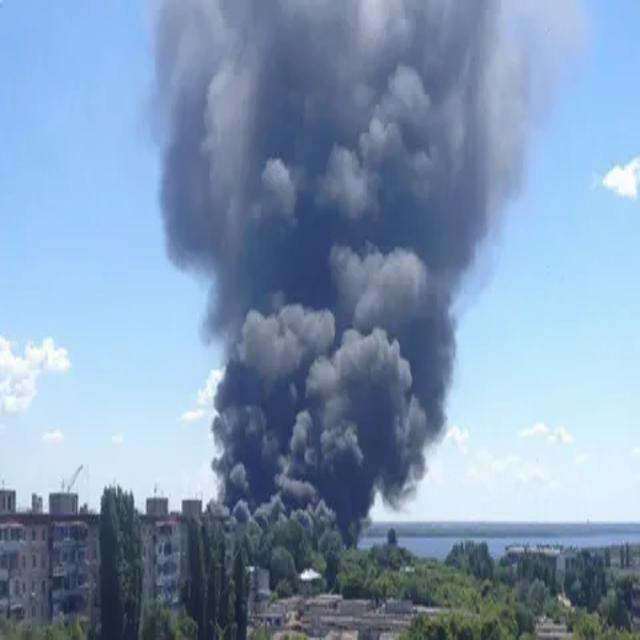Smoke: (143, 0, 534, 538)
